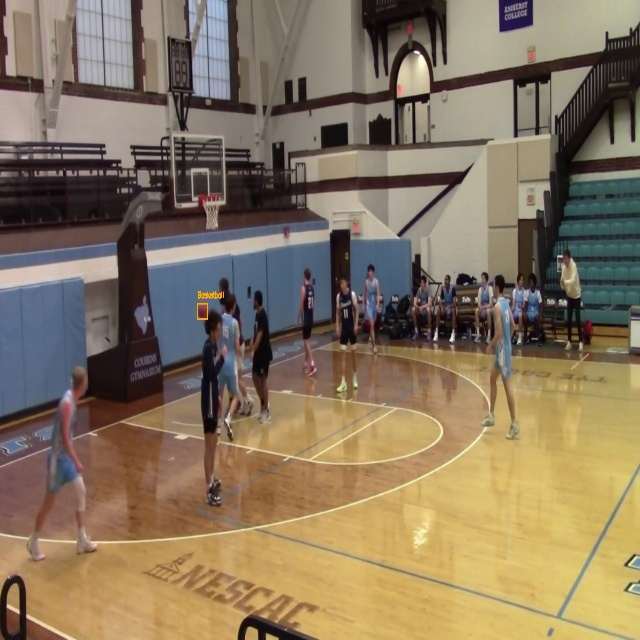Basketball: (198, 303, 208, 319)
